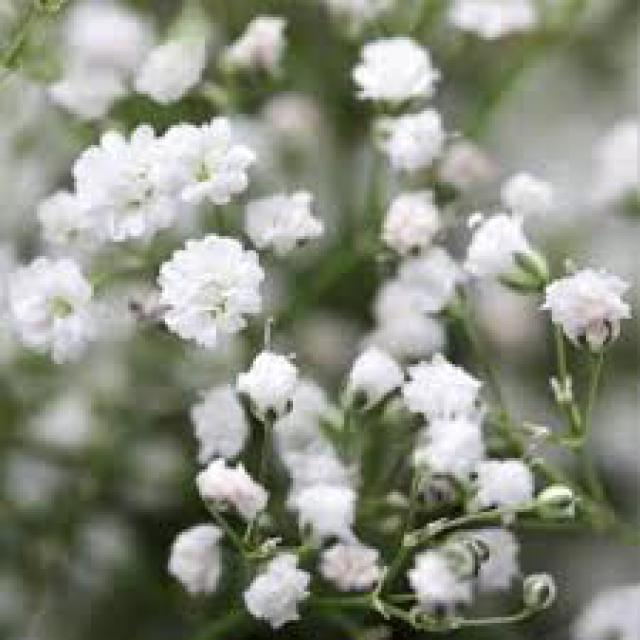gypsophila: (164, 238, 267, 334)
